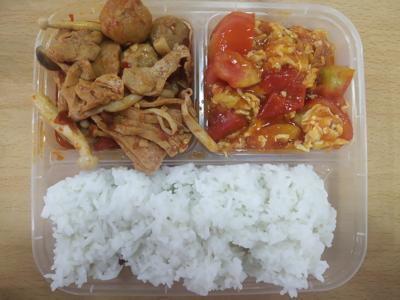jdxhs: (205, 10, 358, 155)
rice: (49, 164, 338, 292)
